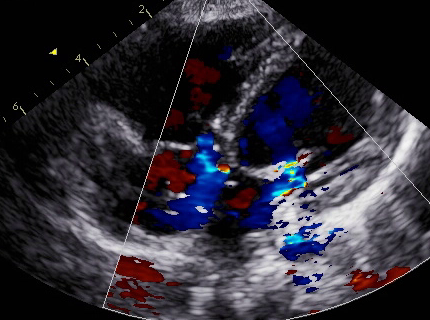MR: (240, 146, 328, 198)
